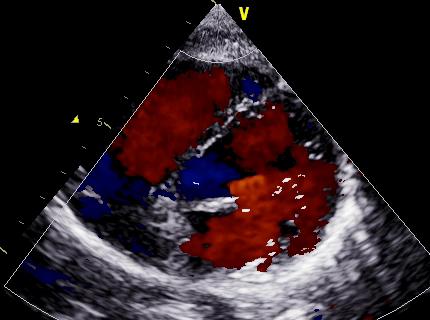TR: (96, 169, 187, 246)
